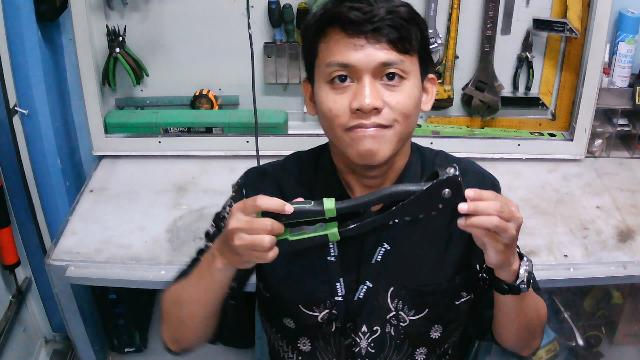tang_rivet: (255, 161, 468, 251)
